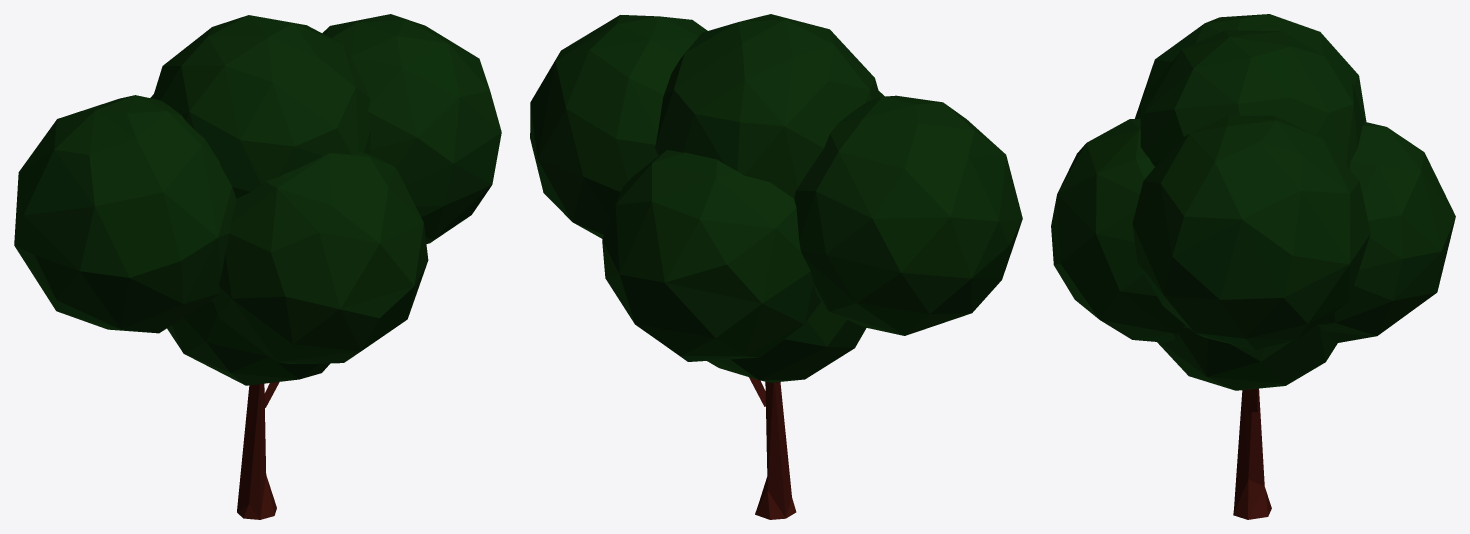
The picture shows the model from 3 angles, left to right: view 1: azimuth 30°, elevation 25°; view 2: azimuth 150°, elevation 25°; view 3: azimuth 270°, elevation 25°; orthographic projection.
Visible parts, largest first — view 1: skp1351 (×6); view 2: skp1351 (×6); view 3: skp1351 (×7).
Part boxes in pixels (<box>): skp1351 (×6): <box>14,14,501,519</box>; skp1351 (×6): <box>530,14,1022,519</box>; skp1351 (×7): <box>1051,14,1455,519</box>.
Bounding box in the file's own units: 174 × 136 × 176.
